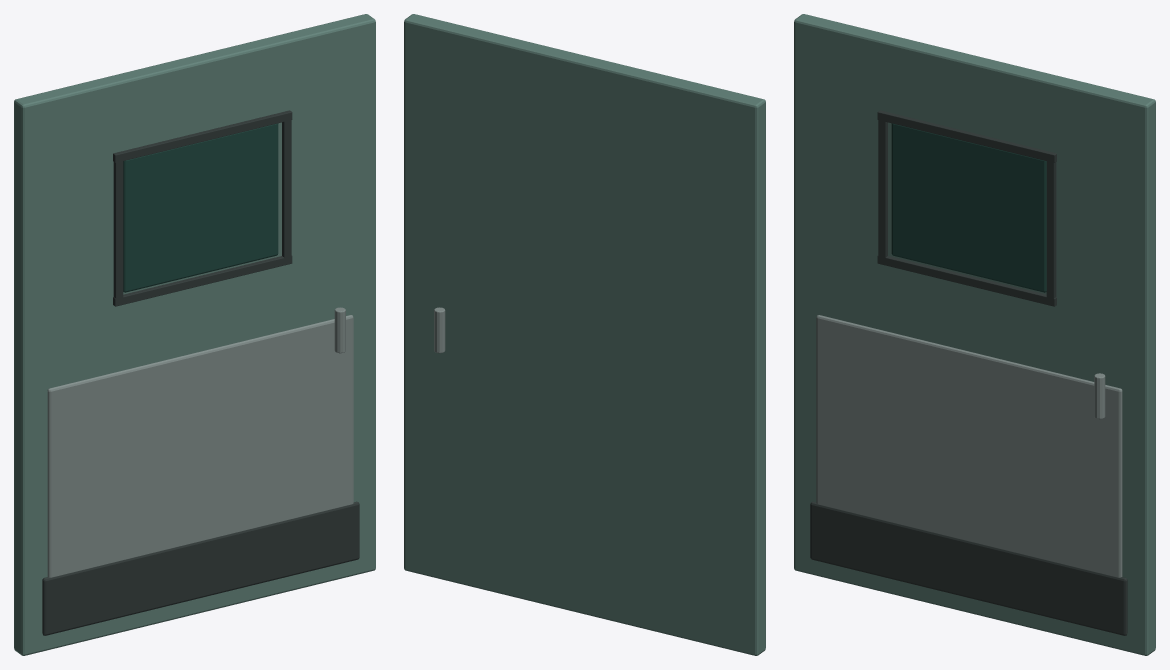
Rendered from H_Door.fbx.
3 views of the same model, side by side, from view 1: azimuth 30°, elevation 25°; view 2: azimuth 150°, elevation 25°; view 3: azimuth 330°, elevation 25° (orthographic).
Visible parts, largest first — view 1: H_Door; view 2: H_Door; view 3: H_Door.
Part boxes in pixels (bbox=[...]): H_Door: bbox=[14, 14, 375, 655]; H_Door: bbox=[404, 14, 765, 655]; H_Door: bbox=[794, 14, 1155, 655].
Bounding box in the file's own units: 1.6 × 2.38 × 0.204.
